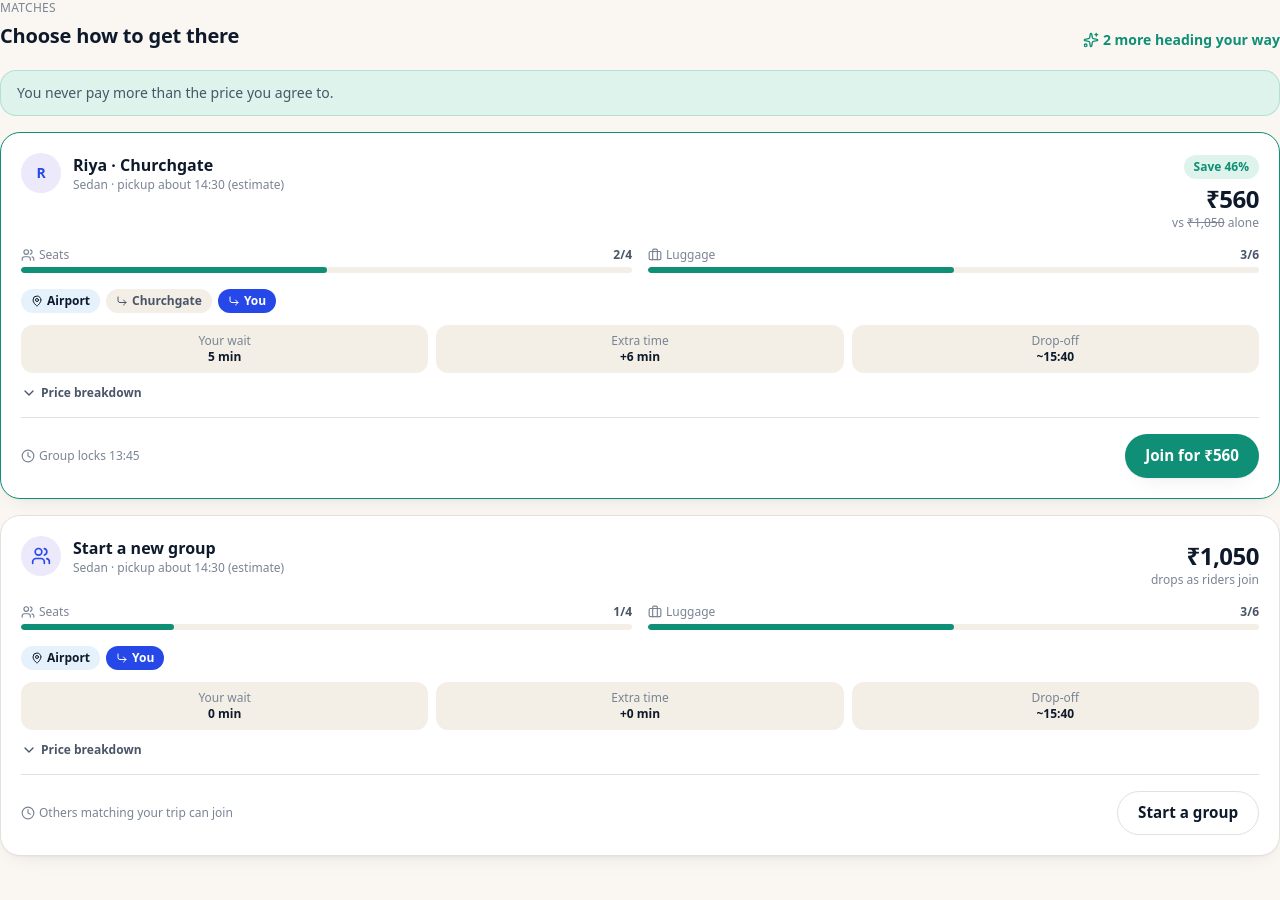
Test: Matches panel › keeps the dialog open and refreshes when the group filled up
Click the button "Join for ₹560" at coordinates (1192, 456), box left=1125, top=434, right=1259, bottom=478
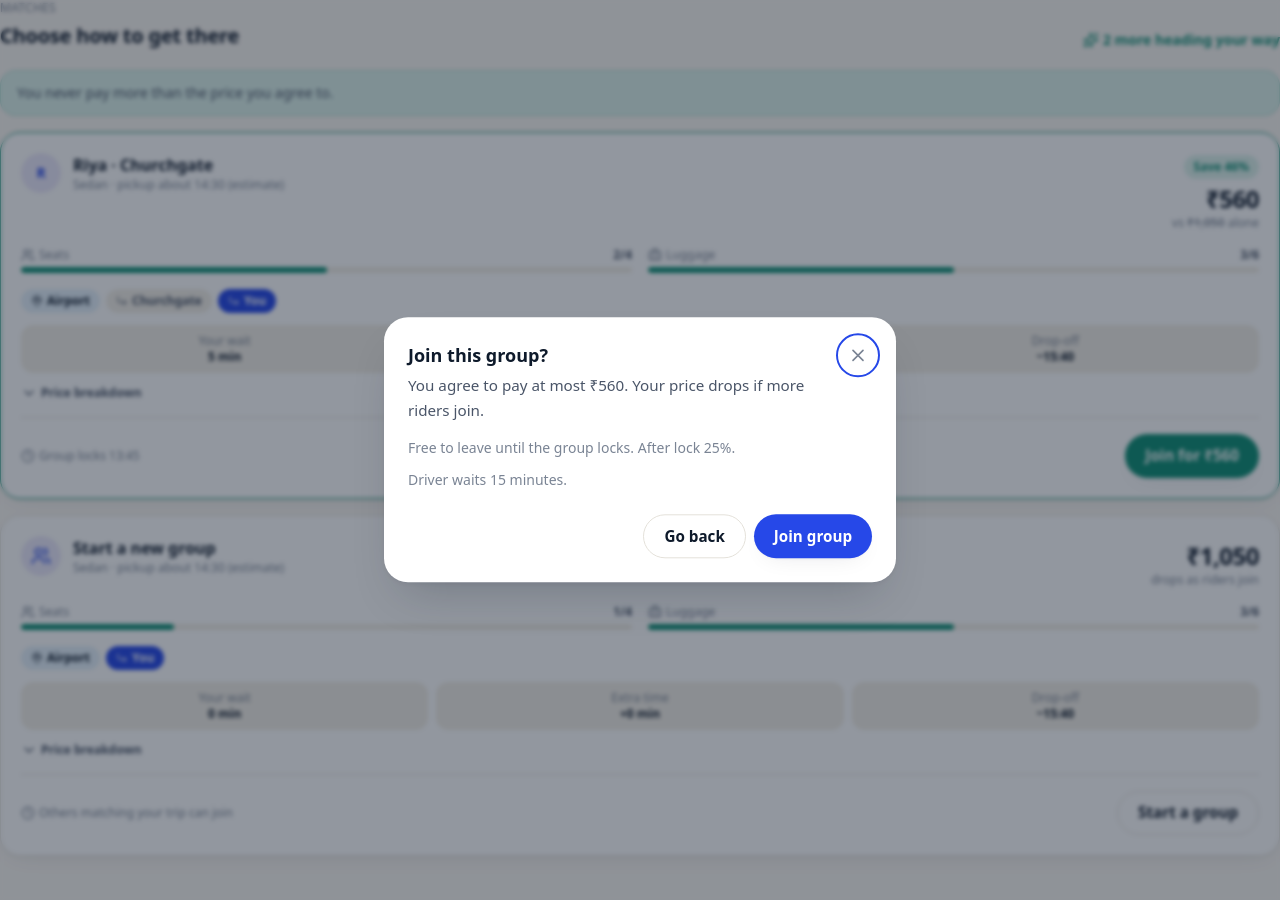
Click the button "Join group" at coordinates (813, 537), box left=754, top=515, right=872, bottom=559
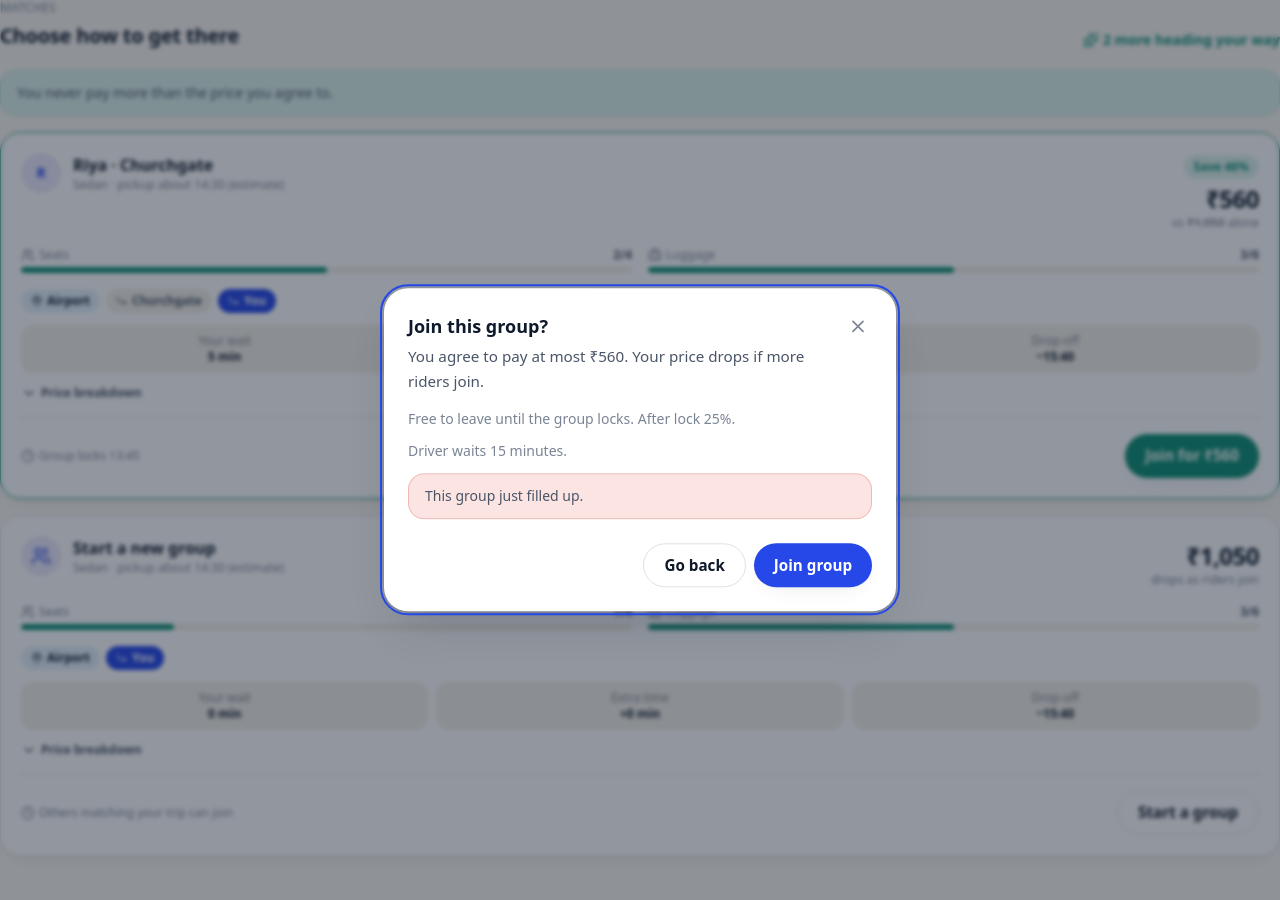
Now the text "This group just filled up." is shown, box left=425, top=487, right=583, bottom=506
